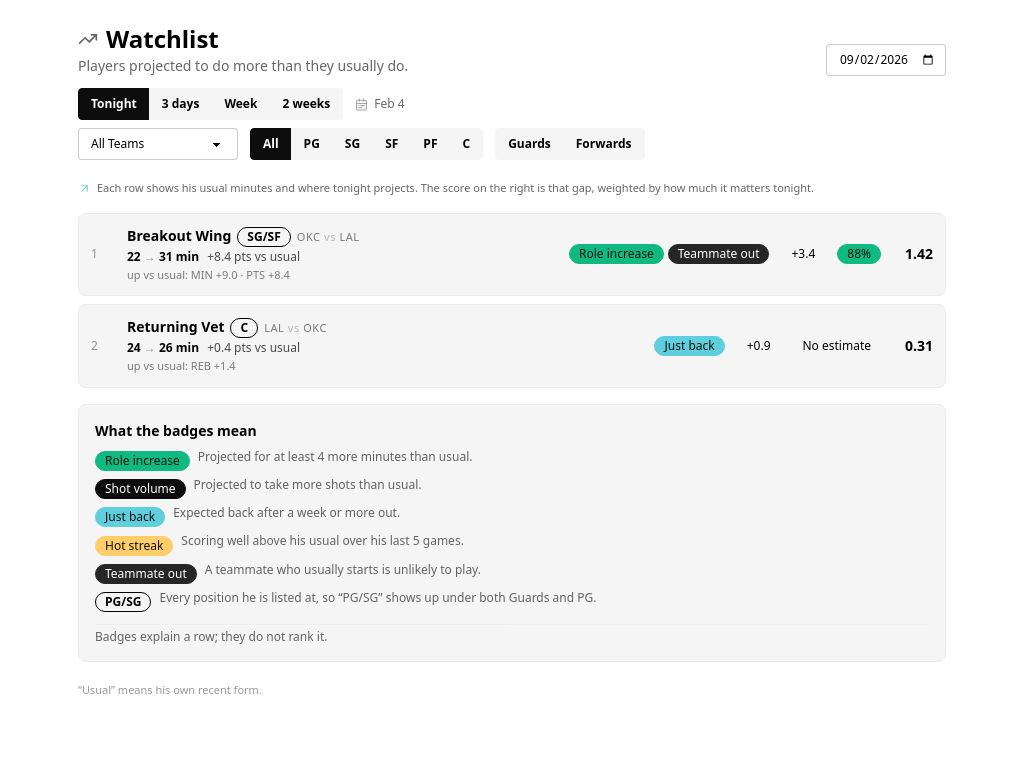
Test: WatchlistPage › refetches for another date when the picker changes
The width and height of the screenshot is (1024, 768).
Expected: the text "Breakout Wing" is shown, [127,226,231,246]
// a date input is set wholesale, not typed character by character.
Step 1. Type "2026-02-06" into the date field named "Window start date" → coordinates (886, 60), box [826,44,946,76]
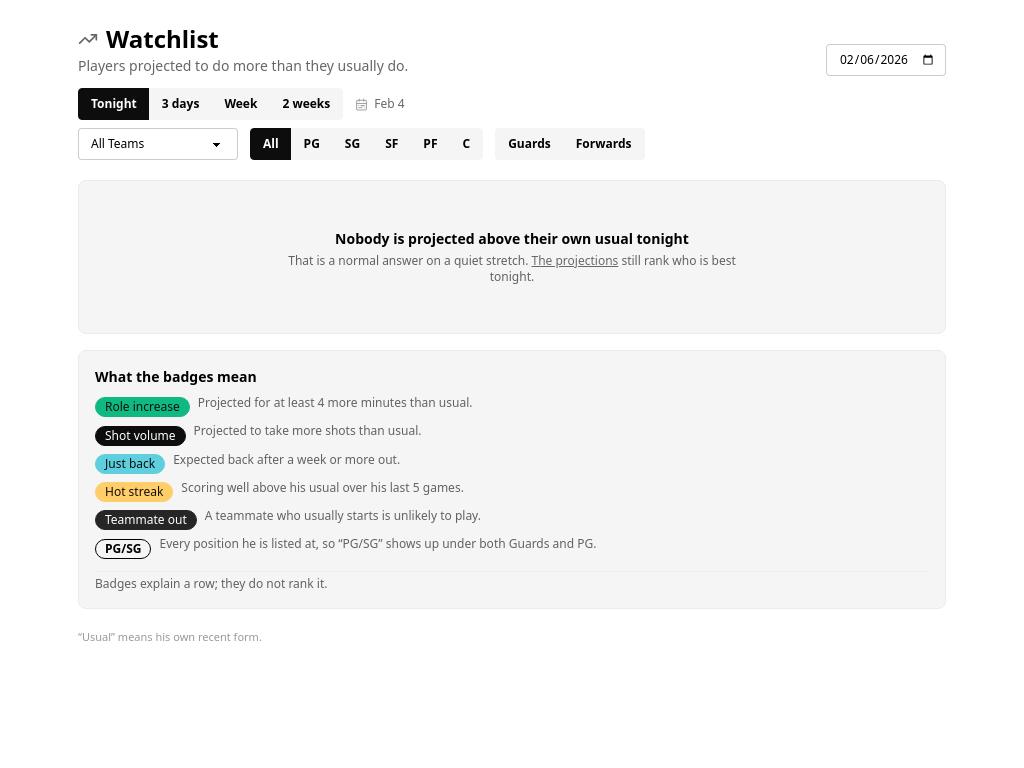
Result: the text "Nobody is projected above their own usual tonight" is shown at [335,229,689,249]
